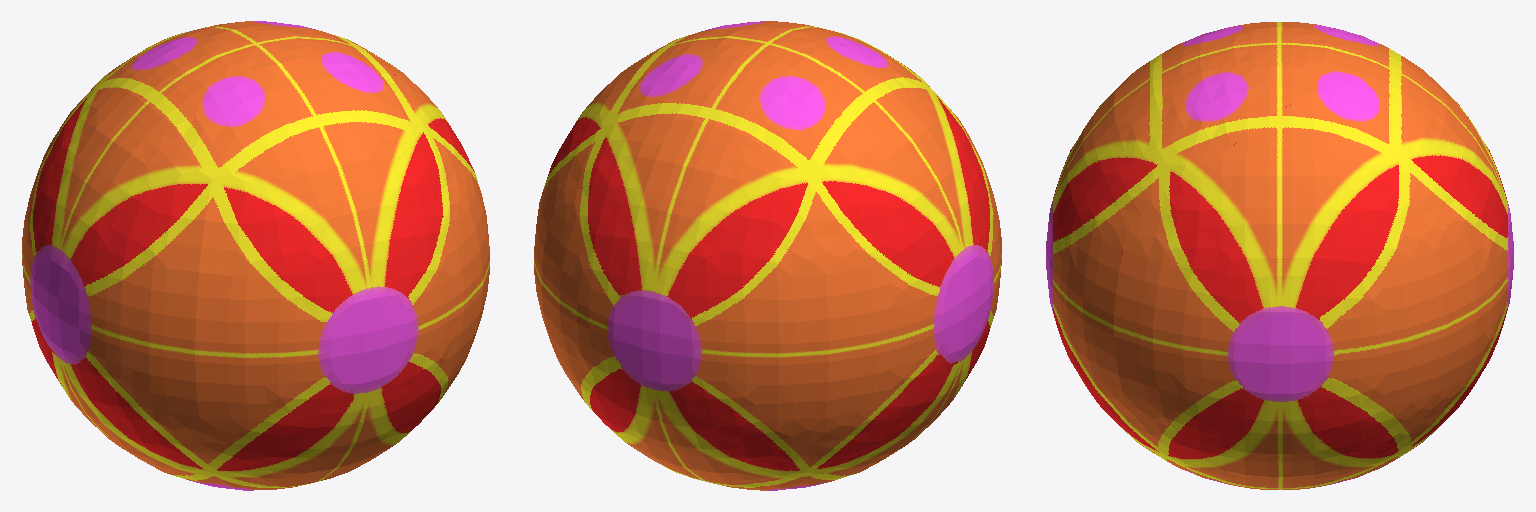
3 renders of one model, left to right at view 1: azimuth 30°, elevation 25°; view 2: azimuth 150°, elevation 25°; view 3: azimuth 270°, elevation 25°, orthographic.
Parts seen in each view (by area): view 1: 球; view 2: 球; view 3: 球.
Part boxes in pixels (x1,y1,x2,y2): 球: (22,21,489,490); 球: (534,21,1001,490); 球: (1046,22,1513,489).
Size of the model in its own units: 1.98 by 1.99 by 1.98.
1 materials, 1 textured.